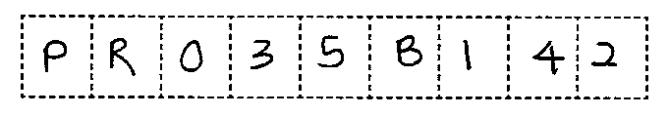0: (172, 32, 209, 79)
1: (451, 33, 480, 76)
2: (586, 33, 622, 80)
3: (244, 34, 278, 76)
4: (525, 36, 569, 78)
5: (310, 28, 349, 75)
B: (388, 31, 427, 75)
P: (37, 32, 73, 82)
R: (103, 33, 139, 81)
